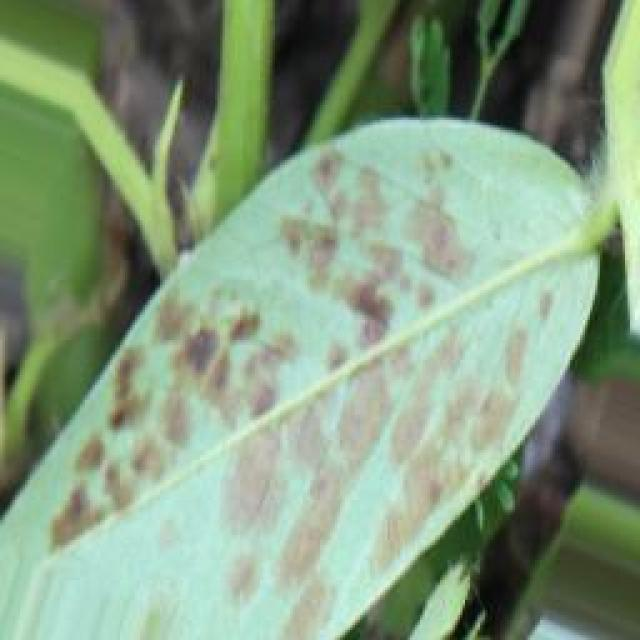Whitefly: (27, 103, 543, 576)
